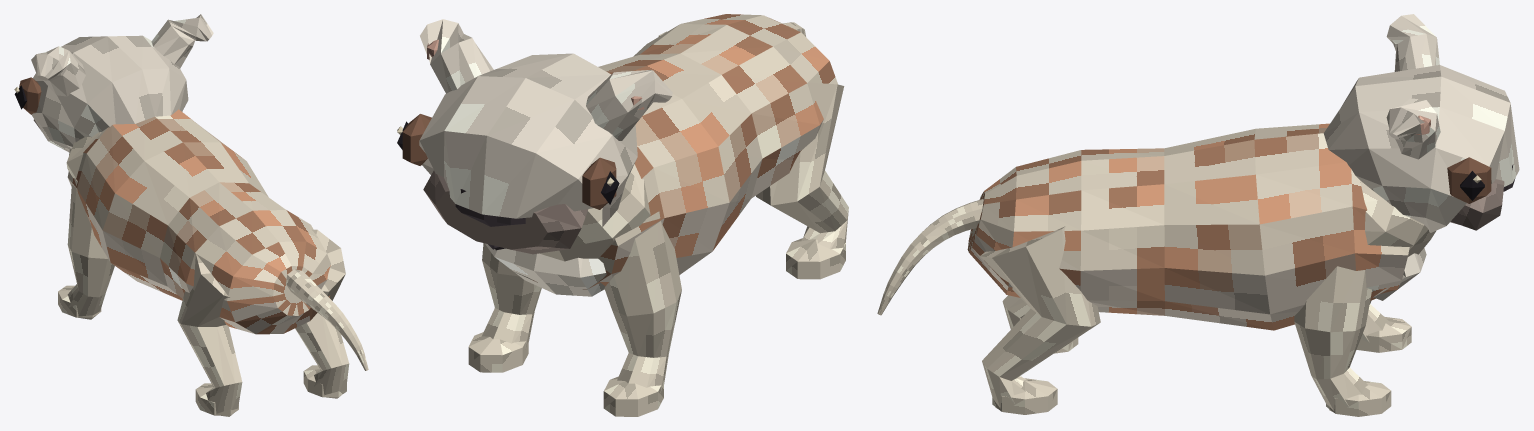
File: mon_dog_bull_pup.glb
3 views of the same model, side by side, from view 1: azimuth 30°, elevation 25°; view 2: azimuth 150°, elevation 25°; view 3: azimuth 270°, elevation 25° (orthographic). The views are drawn at different scales.
Visible parts, largest first — view 1: closed_body; view 2: closed_body; view 3: closed_body.
Part boxes in pixels (x1=…): closed_body: x1=14, y1=14, x2=368, y2=416; closed_body: x1=397, y1=14, x2=848, y2=416; closed_body: x1=877, y1=14, x2=1519, y2=416.
Size of the model in its own units: 0.1264 by 0.1778 by 0.3227.
1 material, 1 textured.
